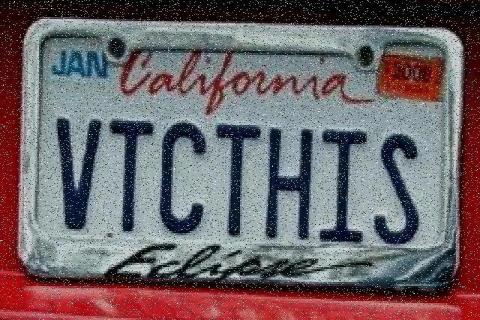LicensePlate: (6, 6, 468, 311)
